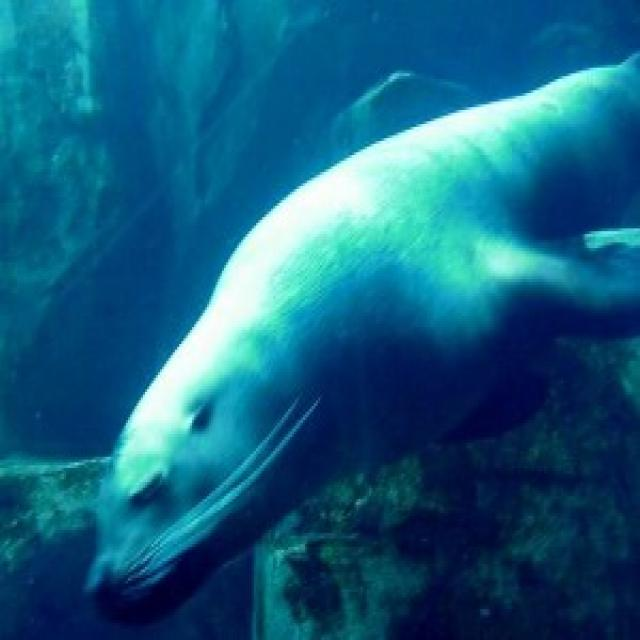Seal: (69, 43, 640, 625)
